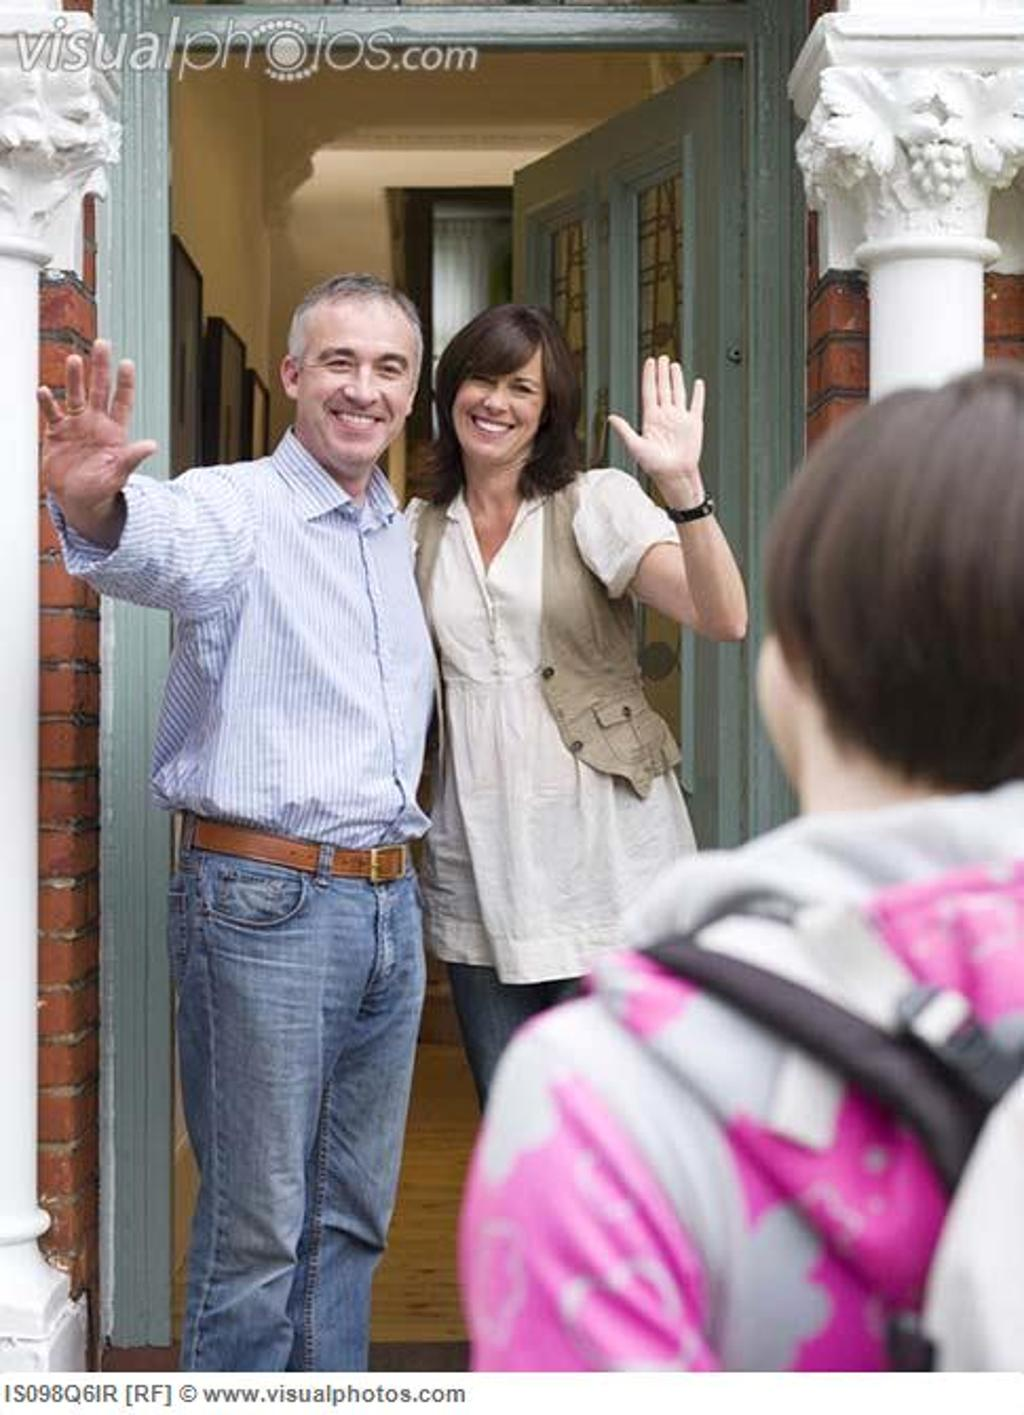face: (304, 295, 417, 472), (453, 337, 544, 464)
